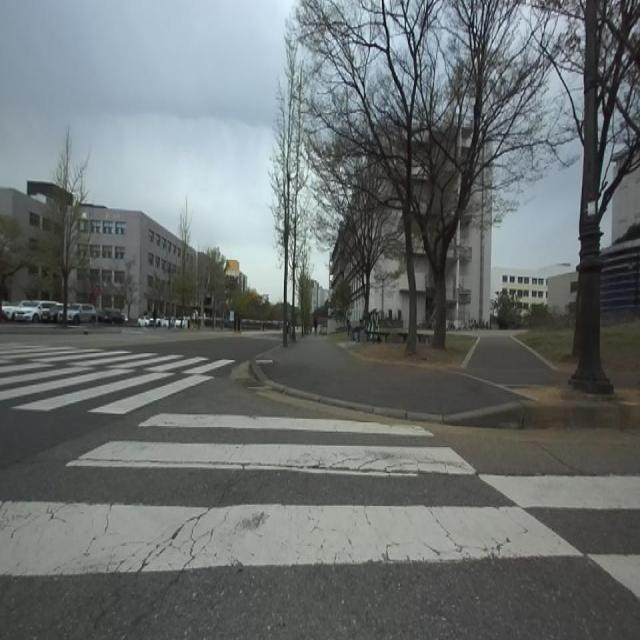sidewalk: (260, 335, 520, 414)
